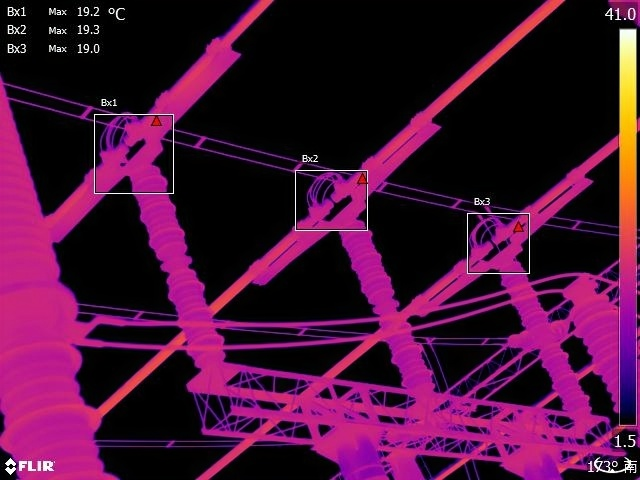post insulator: (127, 157, 231, 371), (337, 208, 439, 390), (507, 251, 593, 416), (573, 282, 640, 415)
